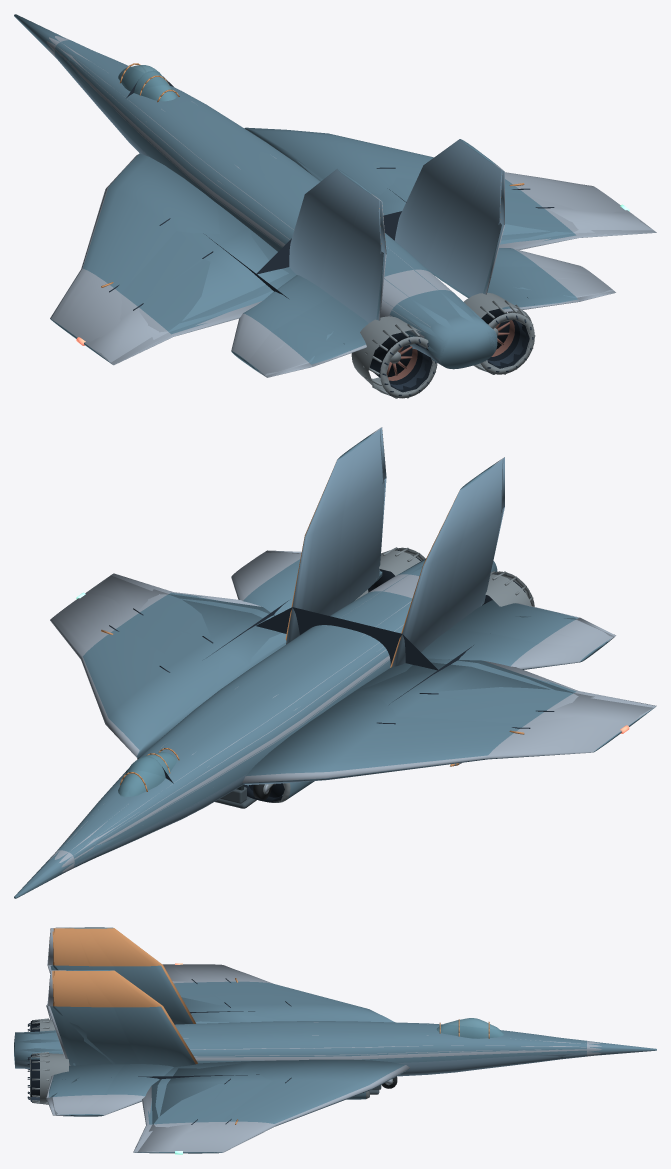
3 renders of one model, top to bottom at view 1: azimuth 30°, elevation 25°; view 2: azimuth 150°, elevation 25°; view 3: azimuth 270°, elevation 25°, orthographic. The views are drawn at different scales.
Visible parts, largest first — view 1: Airframe shell mesh, Airframe shell.001 mesh, Airframe shell.002 mesh, Aft nacelles, Port wing, Starboard wing, Central fuselage, Canopy glass, Hinged Aileron, Hinged Aileron.001, Canopy glass.001, Forward fuselage; view 2: Airframe shell mesh, Airframe shell.001 mesh, Airframe shell.002 mesh, Aft nacelles, Port wing, Central fuselage, Starboard wing, Canopy glass, Forward fuselage, Canopy glass.001; view 3: Airframe shell mesh, Airframe shell.001 mesh, Airframe shell.002 mesh, Starboard wing, Aft nacelles, Central fuselage, Port wing, Canopy glass, Forward fuselage, Canopy glass.001.
Boxes of the visible parts, x1=… form: Airframe shell mesh: x1=14, y1=14, x2=629, y2=398; Airframe shell.001 mesh: x1=52, y1=44, x2=656, y2=398; Airframe shell.002 mesh: x1=14, y1=14, x2=653, y2=398; Aft nacelles: x1=257, y1=153, x2=530, y2=395; Port wing: x1=50, y1=231, x2=347, y2=374; Starboard wing: x1=388, y1=177, x2=651, y2=305; Central fuselage: x1=126, y1=70, x2=401, y2=274; Canopy glass: x1=118, y1=65, x2=176, y2=101; Hinged Aileron: x1=112, y1=301, x2=261, y2=364; Hinged Aileron.001: x1=499, y1=231, x2=656, y2=249; Canopy glass.001: x1=118, y1=65, x2=175, y2=100; Forward fuselage: x1=56, y1=37, x2=172, y2=125; Airframe shell mesh: x1=14, y1=435, x2=629, y2=898; Airframe shell.001 mesh: x1=14, y1=430, x2=656, y2=897; Airframe shell.002 mesh: x1=15, y1=429, x2=652, y2=897; Aft nacelles: x1=256, y1=429, x2=533, y2=669; Port wing: x1=315, y1=608, x2=655, y2=778; Central fuselage: x1=125, y1=607, x2=437, y2=822; Starboard wing: x1=82, y1=552, x2=300, y2=662; Canopy glass: x1=118, y1=752, x2=176, y2=796; Forward fuselage: x1=60, y1=756, x2=171, y2=862; Canopy glass.001: x1=119, y1=752, x2=176, y2=796; Airframe shell mesh: x1=14, y1=927, x2=656, y2=1154; Airframe shell.001 mesh: x1=15, y1=928, x2=656, y2=1152; Airframe shell.002 mesh: x1=15, y1=928, x2=656, y2=1152; Starboard wing: x1=48, y1=1074, x2=272, y2=1153; Aft nacelles: x1=15, y1=927, x2=186, y2=1102; Central fuselage: x1=186, y1=1011, x2=466, y2=1097; Port wing: x1=172, y1=964, x2=272, y2=1013; Canopy glass: x1=436, y1=1018, x2=502, y2=1038; Forward fuselage: x1=466, y1=1018, x2=595, y2=1068; Canopy glass.001: x1=437, y1=1018, x2=500, y2=1038.
Bounding box in the file's own units: 15.43 × 5.18 × 22.16.
